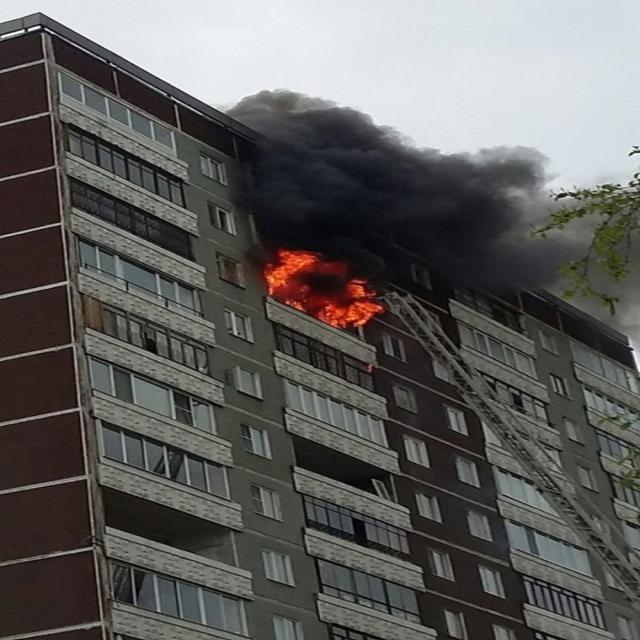Fire: (262, 250, 378, 331)
Smoke: (230, 86, 591, 290)
